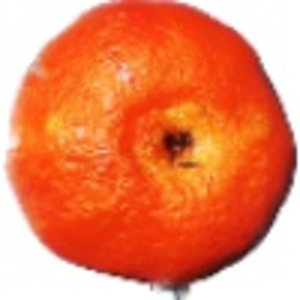tangerina: (3, 1, 300, 300)
